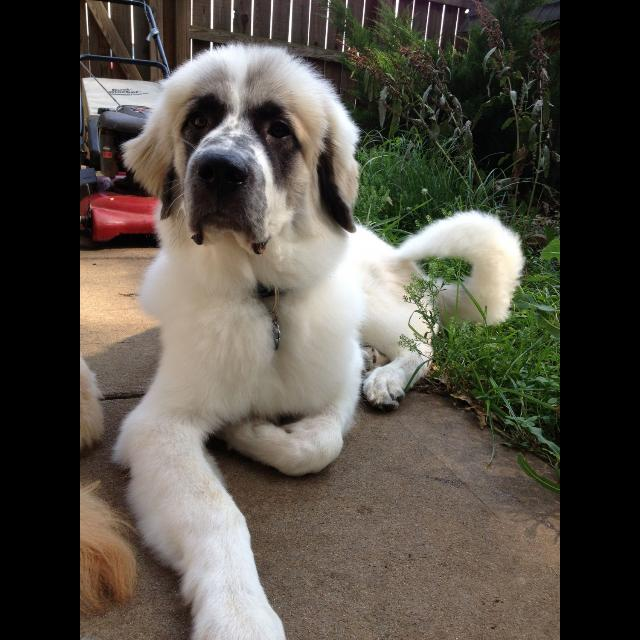other_dog_breed: (111, 43, 525, 640)
